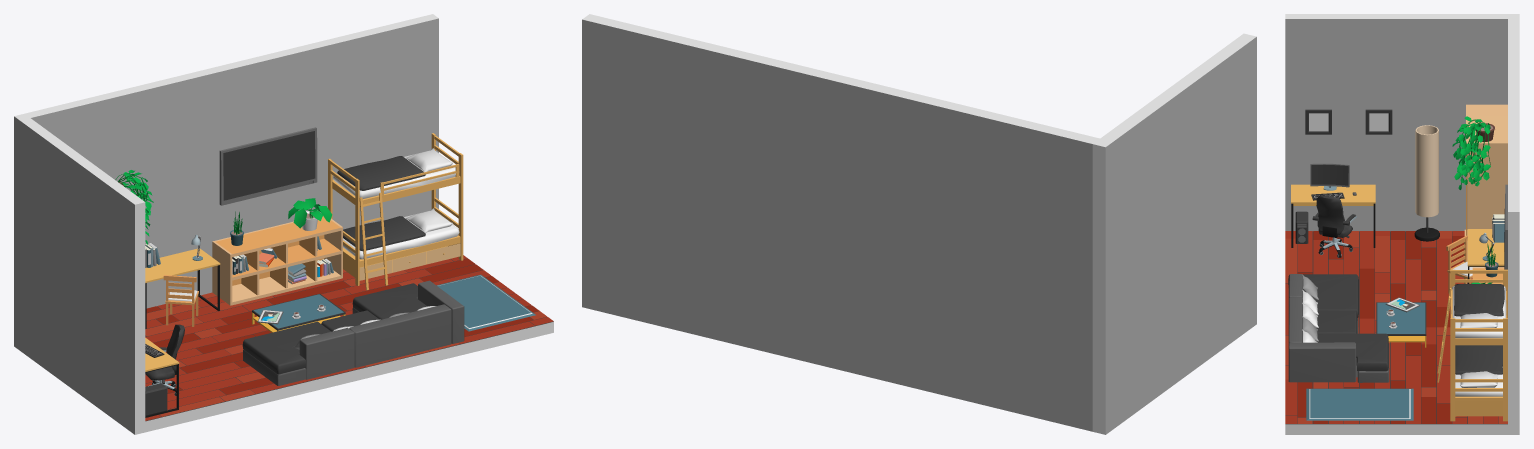
The model's file is room_21.glb.
The picture shows the model from 3 angles, left to right: view 1: azimuth 30°, elevation 25°; view 2: azimuth 150°, elevation 25°; view 3: azimuth 270°, elevation 25°; orthographic projection. The views are drawn at different scales.
Visible parts, largest first — view 1: Walls_192.003, Walls_192.004, sofa_028.006, bed_024.002, floor_001.032, shelf_050.002, Walls_011.019, electronics_034.010, floor_001.031, carpet_009.002, coffee_table_028.003, office_table_041.002 (+6 smaller); view 2: Walls_192.003, Walls_192.004; view 3: Walls_192.004, floor_001.032, bed_024.002, sofa_028.006, floor_001.031, Walls_192.003, closet_024.002, Walls_011.019, carpet_009.002, lamp_floor_007.005, flower_025.001, coffee_table_028.003 (+12 smaller).
Boxes of the visible parts, bbox=[...] form: Walls_192.003: bbox=[25, 14, 438, 308]; Walls_192.004: bbox=[14, 113, 145, 434]; sofa_028.006: bbox=[242, 280, 464, 385]; bed_024.002: bbox=[328, 133, 463, 290]; floor_001.032: bbox=[145, 292, 349, 420]; shelf_050.002: bbox=[212, 216, 342, 305]; Walls_011.019: bbox=[145, 258, 553, 432]; electronics_034.010: bbox=[219, 127, 317, 205]; floor_001.031: bbox=[253, 255, 553, 370]; carpet_009.002: bbox=[436, 274, 535, 331]; coffee_table_028.003: bbox=[252, 293, 345, 332]; office_table_041.002: bbox=[145, 248, 220, 328]; Walls_192.003: bbox=[582, 14, 1099, 431]; Walls_192.004: bbox=[1092, 33, 1256, 434]; Walls_192.004: bbox=[1285, 14, 1519, 231]; floor_001.032: bbox=[1285, 231, 1472, 327]; bed_024.002: bbox=[1437, 269, 1507, 421]; sofa_028.006: bbox=[1288, 274, 1389, 382]; floor_001.031: bbox=[1285, 327, 1507, 423]; Walls_192.003: bbox=[1508, 19, 1519, 434]; closet_024.002: bbox=[1464, 104, 1507, 267]; Walls_011.019: bbox=[1285, 231, 1507, 434]; carpet_009.002: bbox=[1306, 388, 1413, 420]; lamp_floor_007.005: bbox=[1414, 125, 1439, 241]; flower_025.001: bbox=[1452, 116, 1490, 189]; coffee_table_028.003: bbox=[1376, 302, 1426, 347].
Bounding box in the file's own units: 8 × 4.2 × 4.
Materials: 1 (1 with a texture image).
